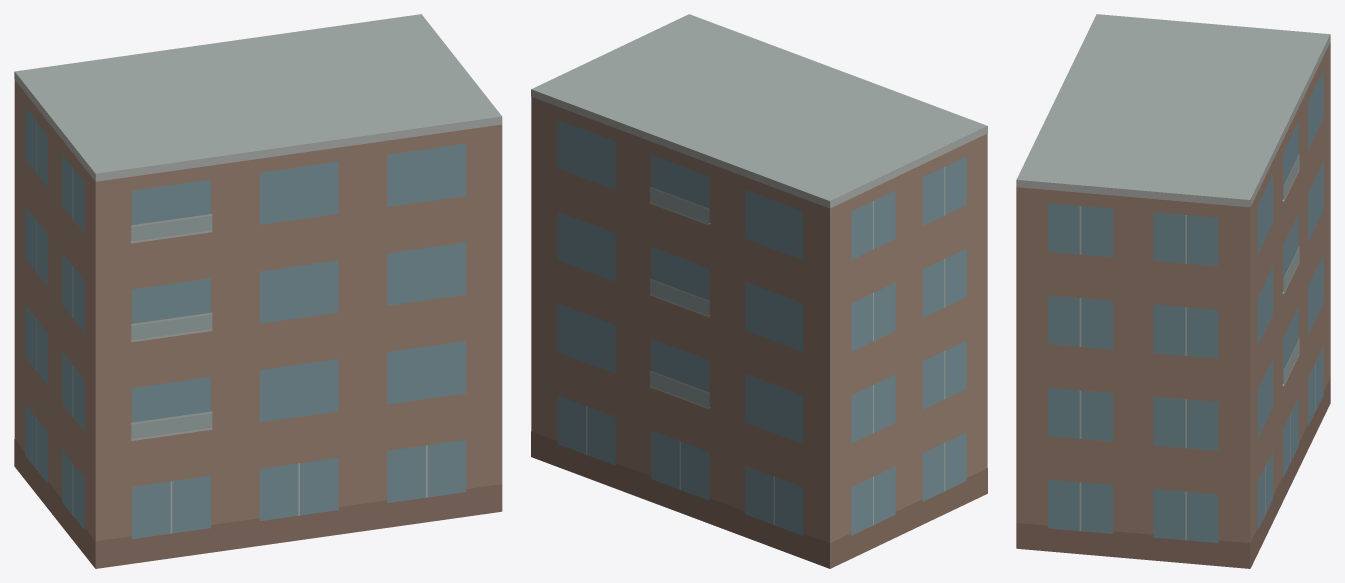
Rendered from residential-663851b4-7065-41af-a29e-e6d36857cefb.glb.
3 views of the same model, side by side, from view 1: azimuth 30°, elevation 25°; view 2: azimuth 150°, elevation 25°; view 3: azimuth 270°, elevation 25° (orthographic). The views are drawn at different scales.
Visible parts, largest first — view 1: residential-663851b4-7065-41af-a29e-e6d36857cefb.tmp; view 2: residential-663851b4-7065-41af-a29e-e6d36857cefb.tmp; view 3: residential-663851b4-7065-41af-a29e-e6d36857cefb.tmp.
Part boxes in pixels (<box>): residential-663851b4-7065-41af-a29e-e6d36857cefb.tmp: <box>14,14,502,568</box>; residential-663851b4-7065-41af-a29e-e6d36857cefb.tmp: <box>531,14,987,568</box>; residential-663851b4-7065-41af-a29e-e6d36857cefb.tmp: <box>1016,14,1330,568</box>.
Bounding box in the file's own units: 13.21 × 12.2 × 9.43.
